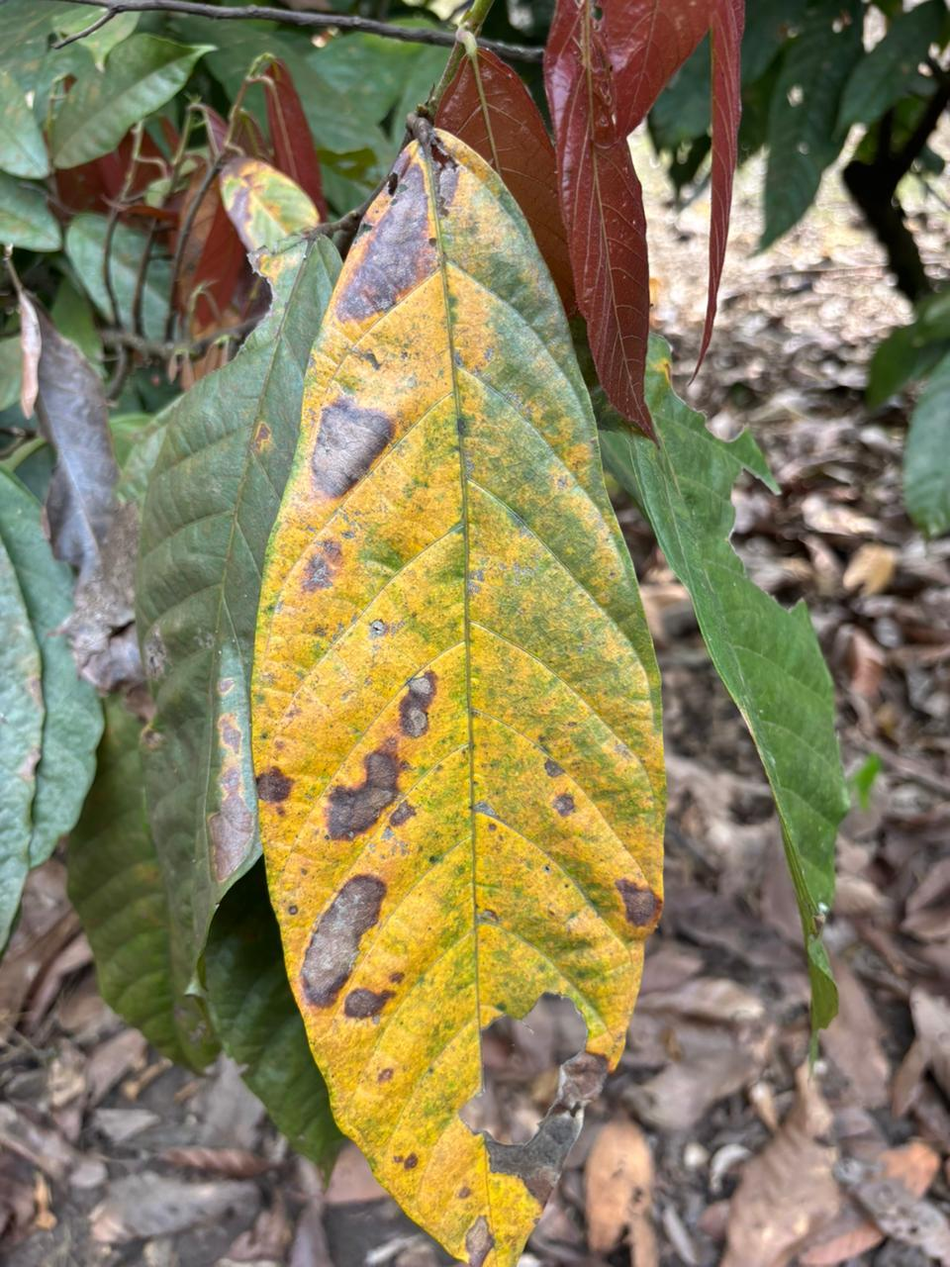deficienciia_fosforo: (251, 124, 664, 1266)
